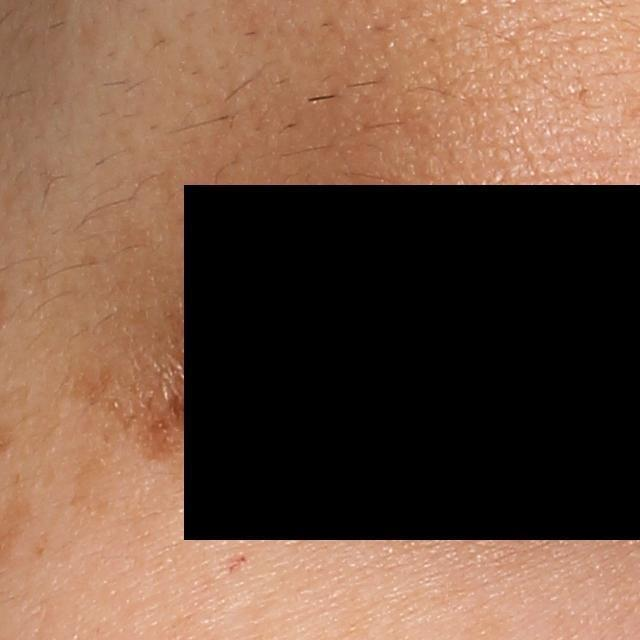melasma: (64, 343, 212, 468), (60, 448, 117, 526)
